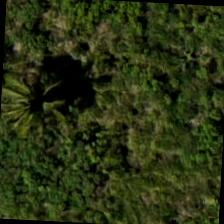Kelapa_Sawit: (0, 58, 82, 153)
